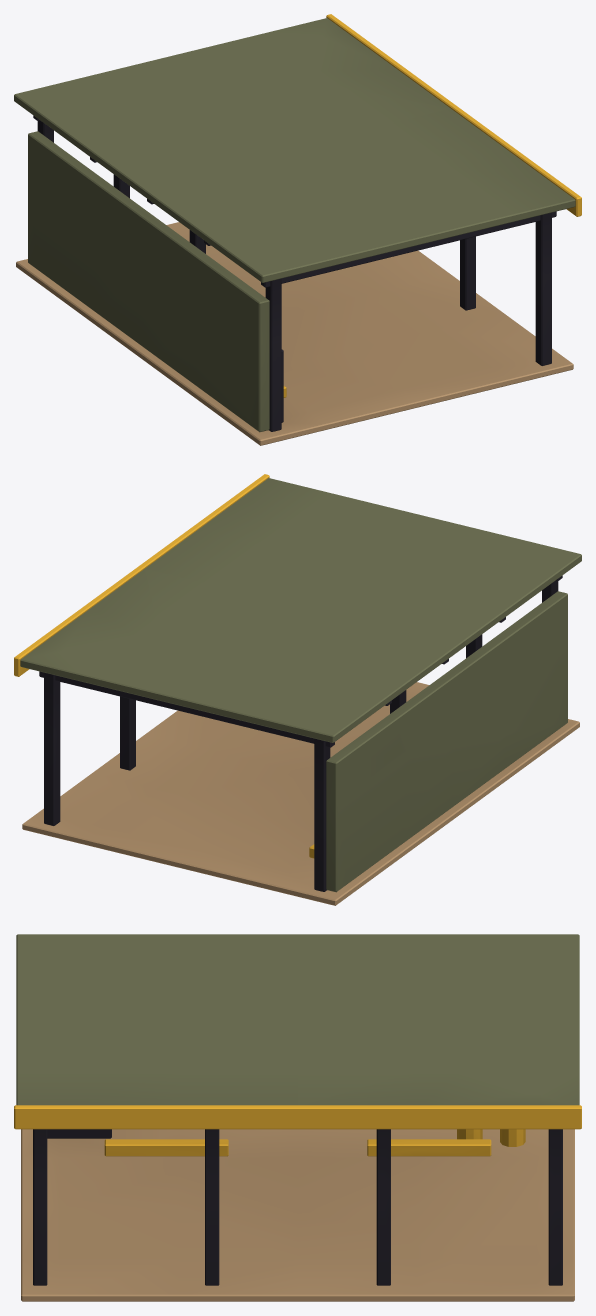
File: bld.cure-motor-shelter.glb
3 views of the same model, one above another, from view 1: azimuth 30°, elevation 25°; view 2: azimuth 150°, elevation 25°; view 3: azimuth 270°, elevation 25° (orthographic). The views are drawn at different scales.
Parts seen in each view (by area): view 1: body; view 2: body; view 3: body.
Boxes of the visible parts, <box> form: body: <box>14,14,581,445</box>; body: <box>14,474,581,905</box>; body: <box>14,934,581,1301</box>.
Size of the model in its own units: 8.74 by 4.55 by 11.9.
